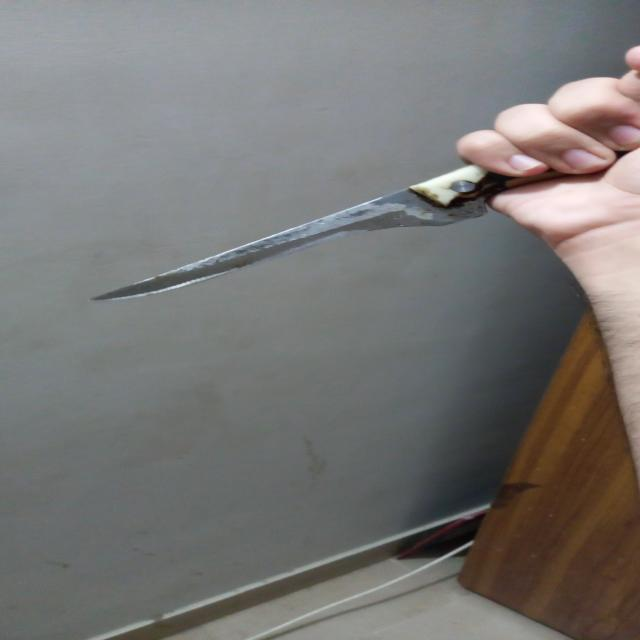knife: (98, 42, 640, 308)
